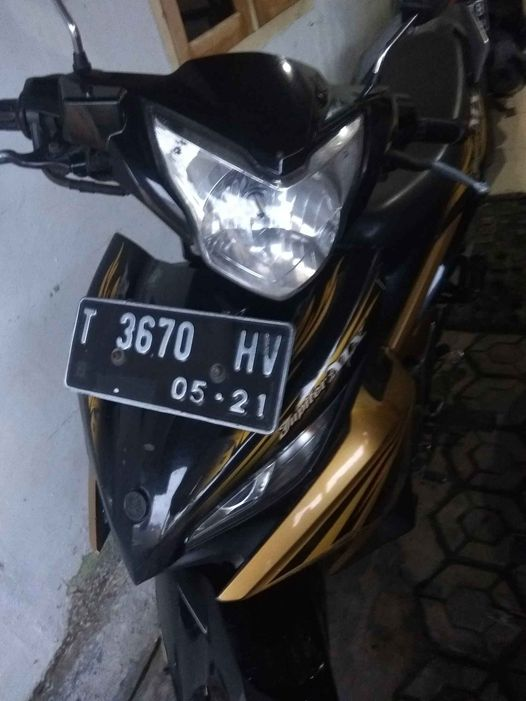plate: (67, 291, 279, 439)
